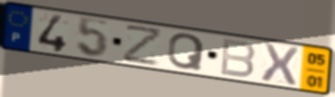4: (36, 12, 69, 54)
5: (75, 17, 110, 60)
B: (219, 37, 258, 80)
Q: (166, 32, 206, 73)
X: (259, 41, 301, 87)
Z: (122, 24, 165, 68)
